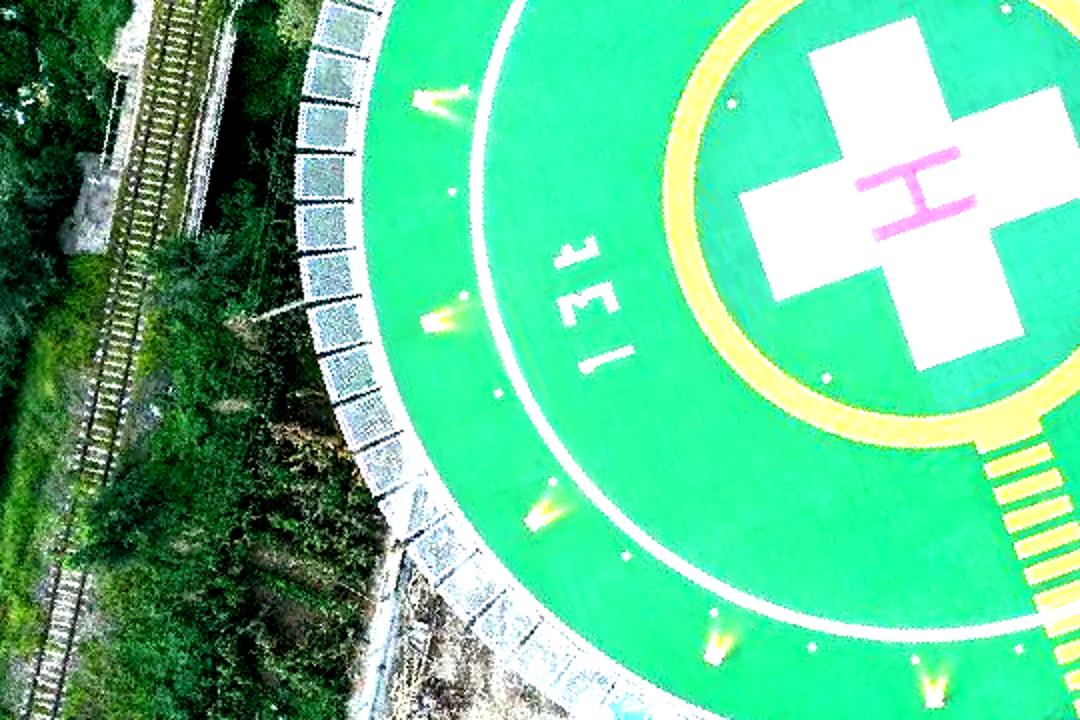Apron: (647, 3, 1080, 444)
